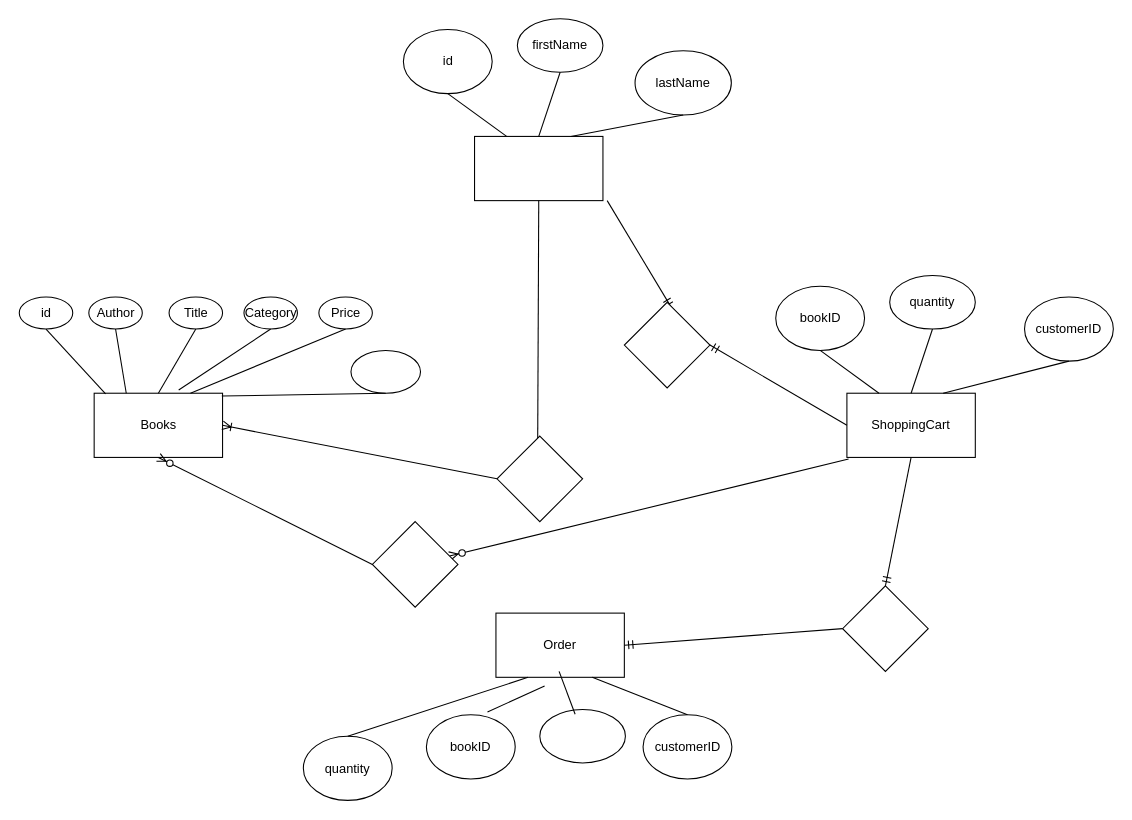
Image size: 1132x820. Some labels were removed from this diagram. The shapes that lost their labels are listed below. From the top down, each one's centre as x and y in pixels, then its label:
At (x=538, y=168): "Customers".
At (x=666, y=344): "fills".
At (x=385, y=371): "number of books".
At (x=539, y=478): "select".
At (x=414, y=564): "contains".
At (x=885, y=628): "creates".
At (x=582, y=735): "orderID".
